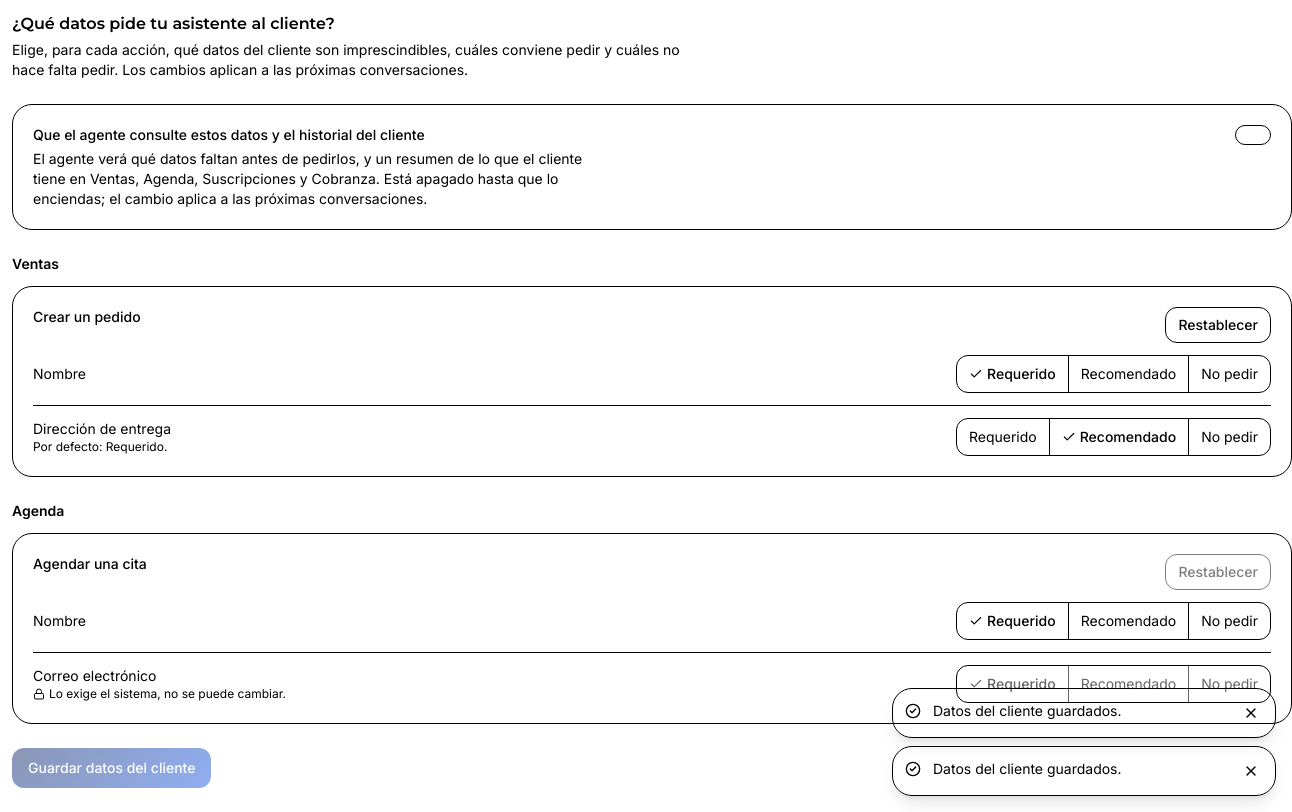
Test: DatosClienteCard › si guardar falla, avisa y conserva lo elegido
The width and height of the screenshot is (1292, 812).
Click the 1st radio button labelled "Recomendado".
click(1128, 374)  # box [1068,356,1188,392]
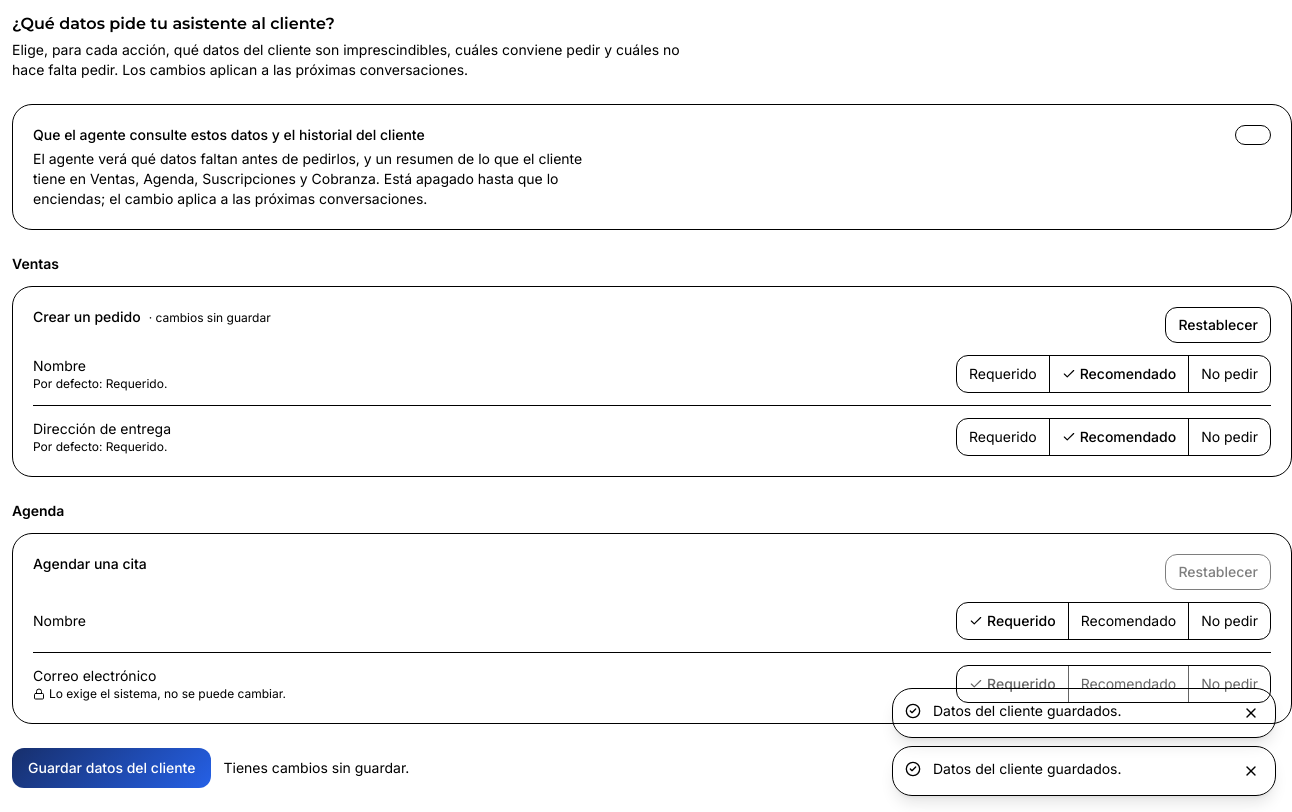
Click the button "Guardar datos del cliente".
click(112, 768)  # box [12,748,212,788]
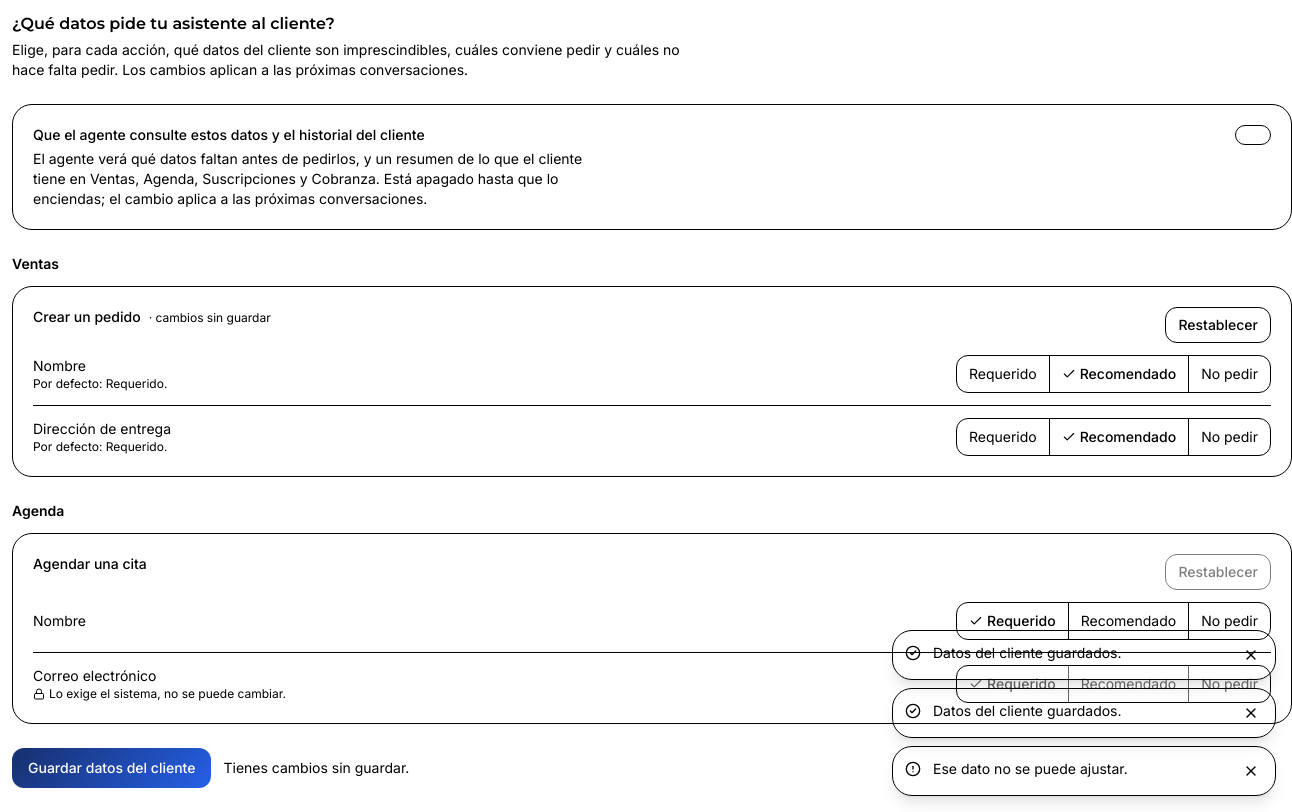
Now the 1st radio button labelled "Recomendado" is checked, box [1049,356,1188,392]
Now the text "Ese dato no se puede ajustar." is shown, box [933,760,1128,777]
